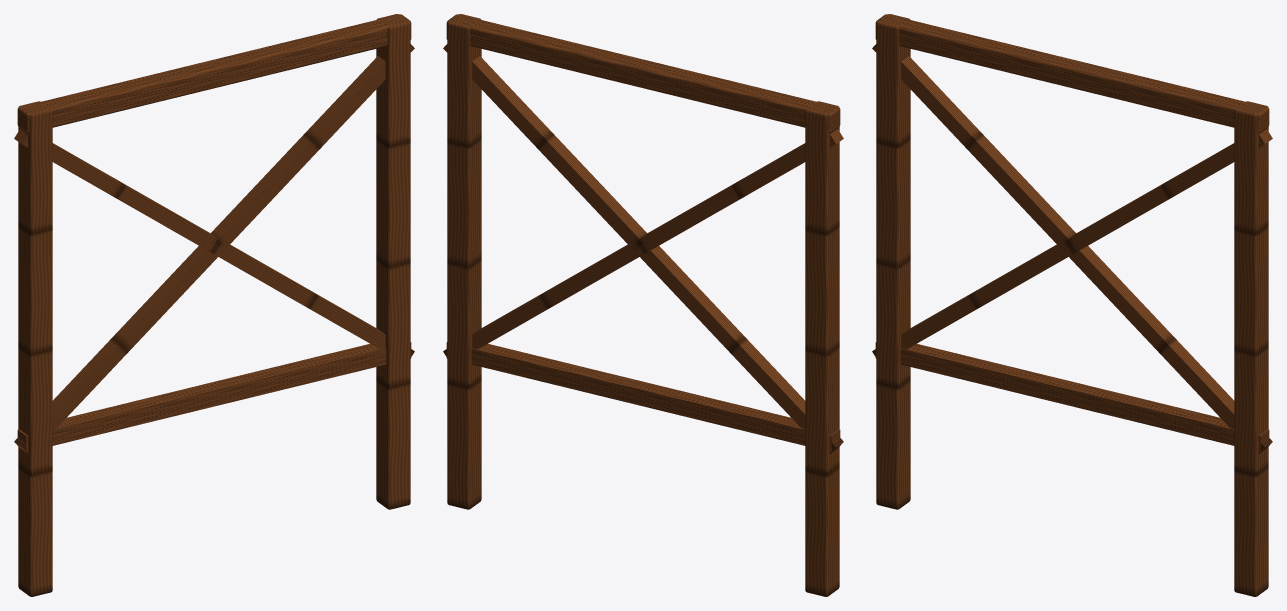
File: fortified-compound-expansion-braced-timber-perimeter-9463558e__27085.glb
The picture shows the model from 3 angles, left to right: view 1: azimuth 30°, elevation 25°; view 2: azimuth 150°, elevation 25°; view 3: azimuth 330°, elevation 25°; orthographic projection.
Visible parts, largest first — view 1: braced-timber-perimeter; view 2: braced-timber-perimeter; view 3: braced-timber-perimeter.
Part boxes in pixels (x1,y1,x2,y2): braced-timber-perimeter: [14, 14, 414, 596]; braced-timber-perimeter: [443, 14, 843, 596]; braced-timber-perimeter: [872, 14, 1272, 596].
Bounding box in the file's own units: 2.04 × 2.4 × 0.1201.
Materials: 1 (1 with a texture image).
